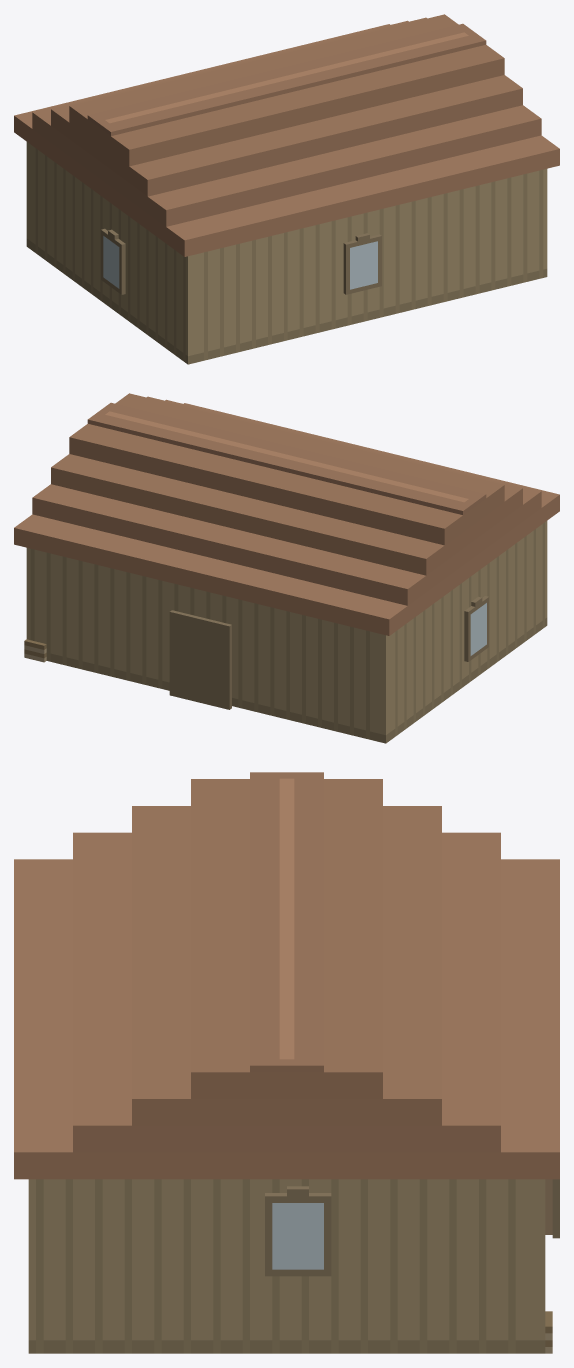
Rendered from aserradero_03.glb.
3 renders of one model, top to bottom at view 1: azimuth 30°, elevation 25°; view 2: azimuth 150°, elevation 25°; view 3: azimuth 270°, elevation 25°, orthographic. The views are drawn at different scales.
Parts seen in each view (by area): view 1: aserradero_03; view 2: aserradero_03; view 3: aserradero_03.
Part boxes in pixels (x1,y1,x2,y2): aserradero_03: (14, 14, 559, 364); aserradero_03: (14, 393, 559, 743); aserradero_03: (14, 772, 559, 1353).
Size of the model in its own units: 9.4 by 4.4 by 7.4.
